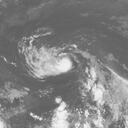cyclone: (20, 37, 75, 81)
